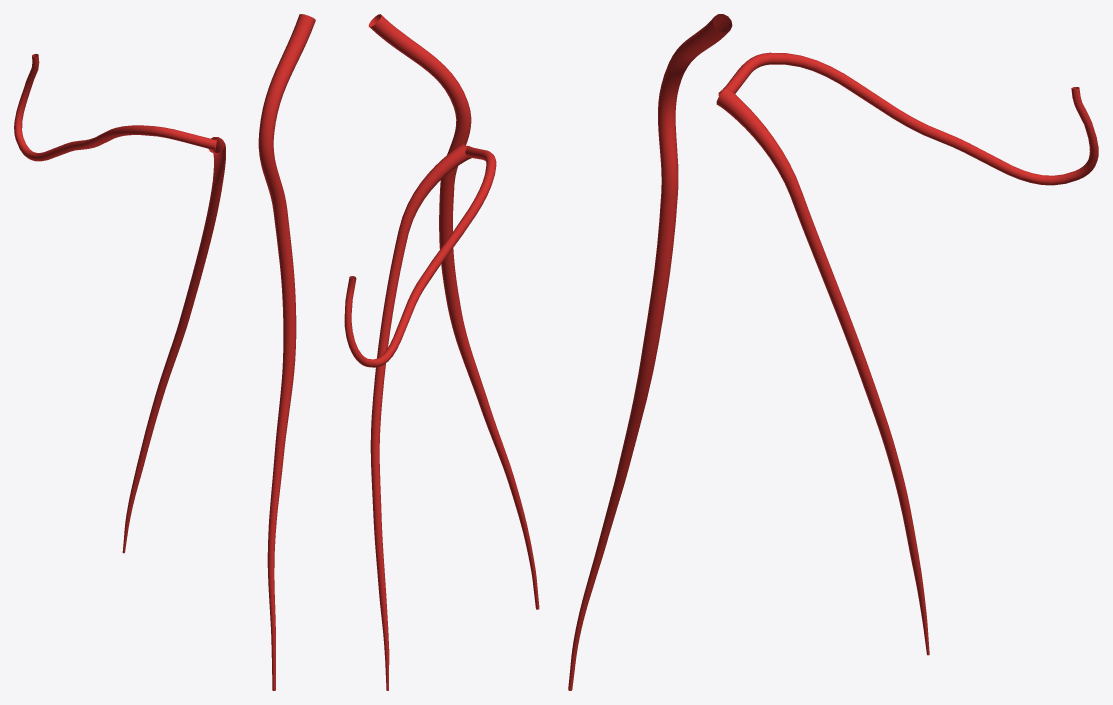
File: circulatorio-subscapular-vein-r.glb
The picture shows the model from 3 angles, left to right: view 1: azimuth 30°, elevation 25°; view 2: azimuth 150°, elevation 25°; view 3: azimuth 270°, elevation 25°; orthographic projection. The views are drawn at different scales.
Parts seen in each view (by area): view 1: Thoracodorsal vein.r, Subscapular vein.r, Circumflex scapular vein.r; view 2: Thoracodorsal vein.r, Subscapular vein.r, Circumflex scapular vein.r; view 3: Thoracodorsal vein.r, Subscapular vein.r, Circumflex scapular vein.r.
Boxes of the visible parts, box(x1,y1,x2,y2) form: Thoracodorsal vein.r: box(258, 14, 315, 690); Subscapular vein.r: box(122, 137, 225, 553); Circumflex scapular vein.r: box(14, 54, 217, 161); Thoracodorsal vein.r: box(368, 14, 539, 609); Subscapular vein.r: box(370, 143, 471, 690); Circumflex scapular vein.r: box(344, 145, 496, 367); Thoracodorsal vein.r: box(568, 14, 732, 690); Subscapular vein.r: box(716, 88, 929, 655); Circumflex scapular vein.r: box(718, 52, 1098, 185).
Size of the model in its own units: 0.0308 by 0.1149 by 0.0757.
